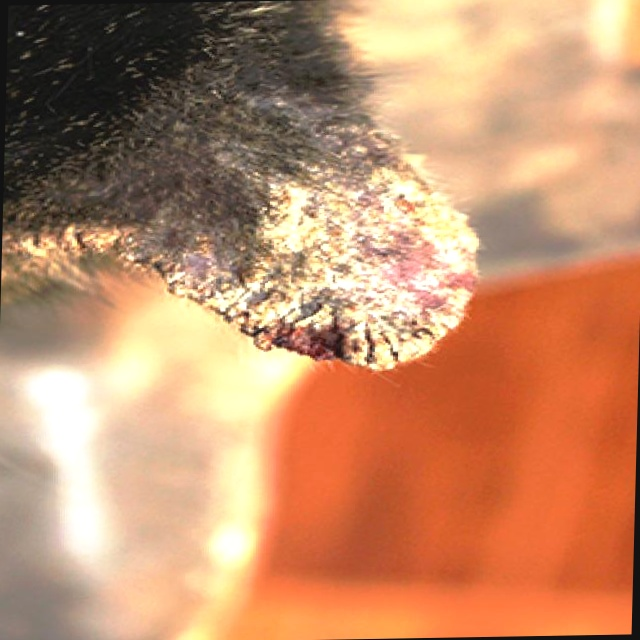ringworm: (218, 147, 464, 358)
